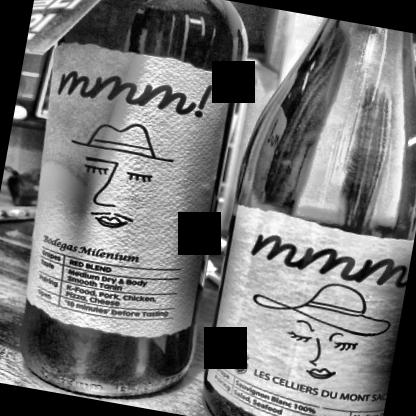umm: (8, 40, 238, 344)
